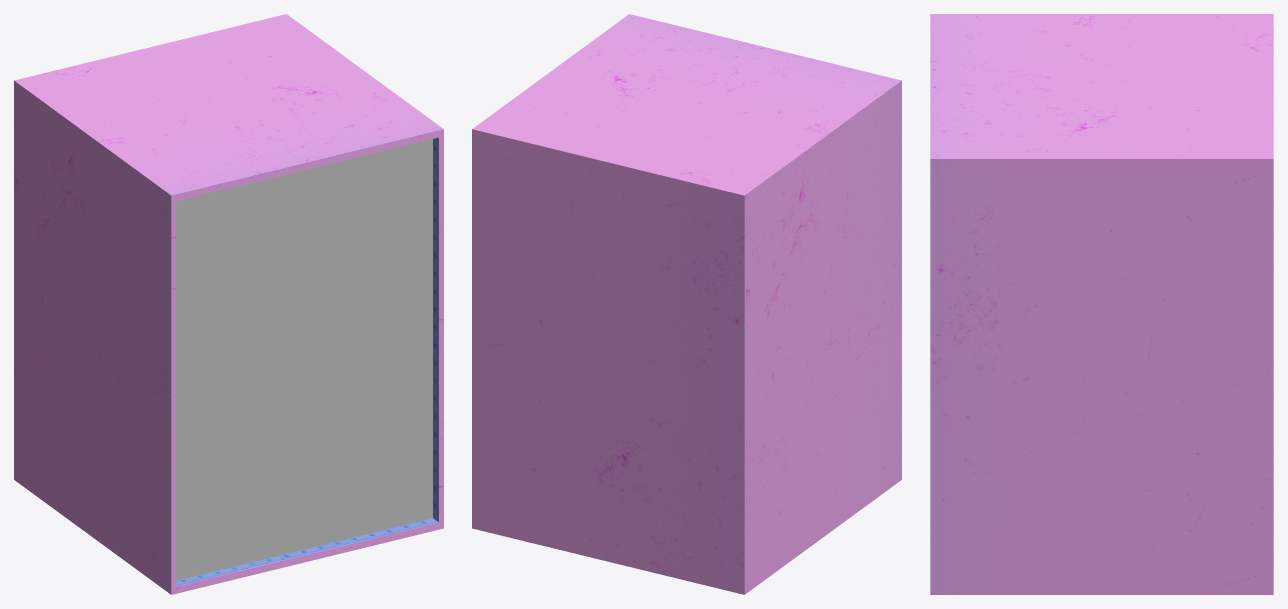
Rendered from MiscServer_01_SM_Low.fbx.
3 renders of one model, left to right at view 1: azimuth 30°, elevation 25°; view 2: azimuth 150°, elevation 25°; view 3: azimuth 270°, elevation 25°, orthographic. The views are drawn at different scales.
Parts seen in each view (by area): view 1: Misc_Server_Body_geo, LowerRight_geo, UpperRight_geo, LowerLeft_geo, UpperLeft_geo; view 2: Misc_Server_Body_geo; view 3: Misc_Server_Body_geo.
Boxes of the visible parts, x1,y1,x2,y2 form: Misc_Server_Body_geo: (14,14,443,594); LowerRight_geo: (301,325,432,549); UpperRight_geo: (301,139,432,357); LowerLeft_geo: (176,357,301,580); UpperLeft_geo: (176,171,301,387); Misc_Server_Body_geo: (472,14,901,594); Misc_Server_Body_geo: (930,14,1273,594).
Bounding box in the file's own units: 1 × 1.4 × 1.
